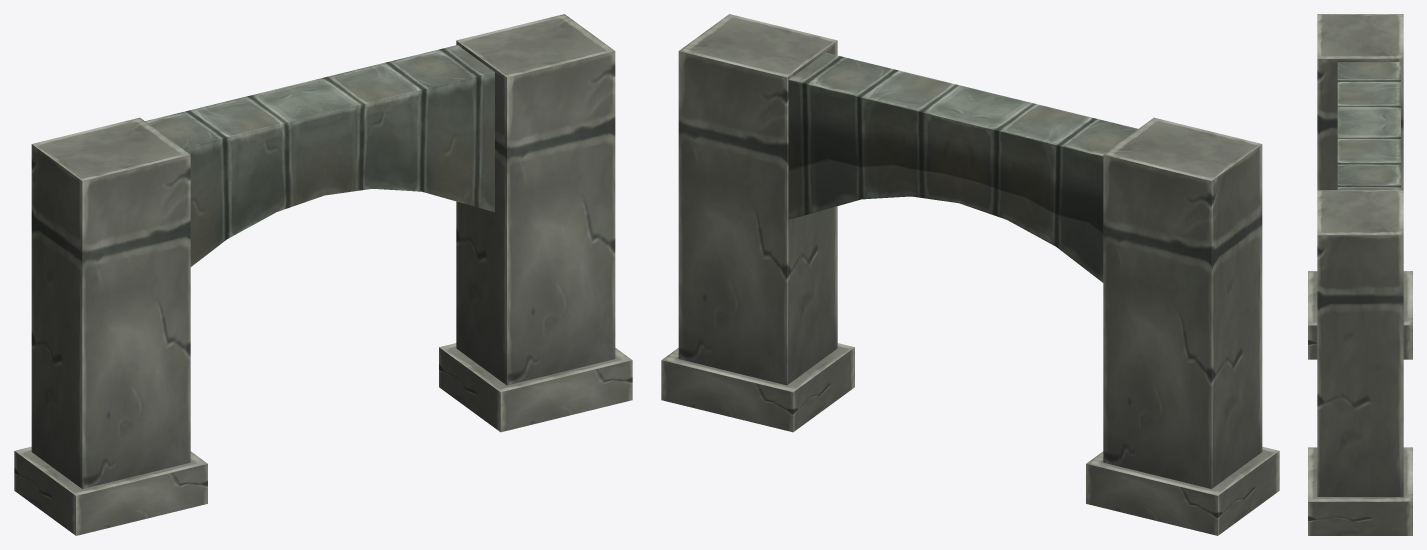
File: bridge_03a_downside_01.fbx
The picture shows the model from 3 angles, left to right: view 1: azimuth 30°, elevation 25°; view 2: azimuth 150°, elevation 25°; view 3: azimuth 270°, elevation 25°; orthographic projection. The views are drawn at different scales.
Parts seen in each view (by area): view 1: bridge_03a_downside_01; view 2: bridge_03a_downside_01; view 3: bridge_03a_downside_01.
Boxes of the visible parts, bbox=[...] form: bridge_03a_downside_01: bbox=[14, 14, 632, 535]; bridge_03a_downside_01: bbox=[661, 14, 1279, 535]; bridge_03a_downside_01: bbox=[1308, 14, 1412, 535].
Size of the model in its own units: 2.69 by 1.61 by 0.5157.
